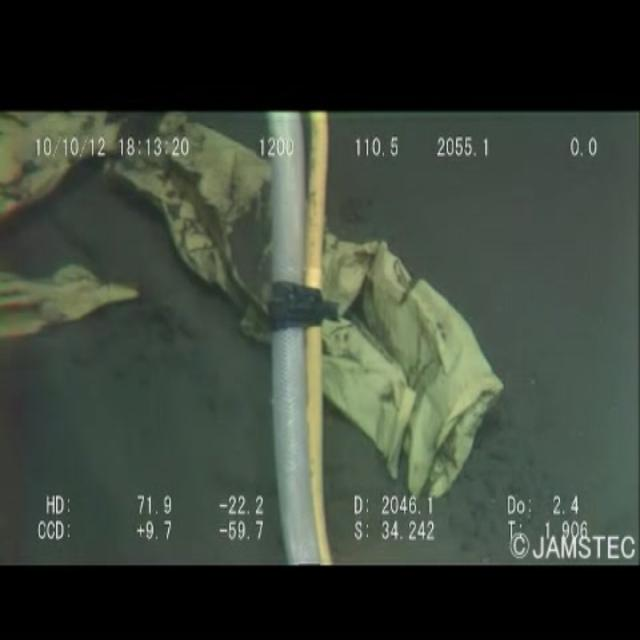Accessories: (0, 109, 268, 416), (318, 218, 488, 518)
